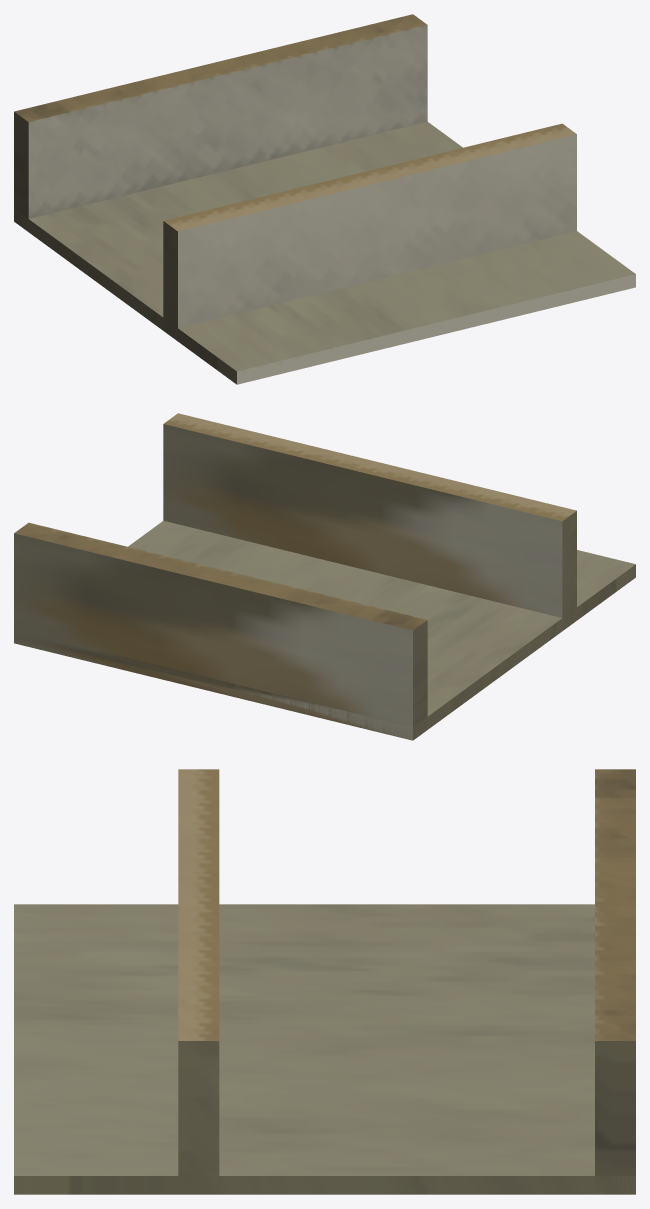
The model's file is pz_g016_shop_beige_magazine_shop_shelves.obj.
3 renders of one model, top to bottom at view 1: azimuth 30°, elevation 25°; view 2: azimuth 150°, elevation 25°; view 3: azimuth 270°, elevation 25°, orthographic. The views are drawn at different scales.
Visible parts, largest first — view 1: physical_component_0_y+, physical_component_1_z+, physical_component_2_z+, physical_component_1_y+, physical_component_2_y+, physical_component_0_z+, physical_component_0_x-, physical_component_1_x-, physical_component_2_x-; view 2: physical_component_1_z-, physical_component_2_z-, physical_component_0_y+, physical_component_2_y+, physical_component_1_y+, physical_component_0_z-, physical_component_0_x-, physical_component_2_x-, physical_component_1_x-; view 3: physical_component_0_y+, physical_component_0_x+, physical_component_2_y+, physical_component_1_y+, physical_component_2_x+, physical_component_1_x+.
Boxes of the visible parts, x1,y1,x2,y2 form: physical_component_0_y+: (29, 121, 635, 371); physical_component_1_z+: (28, 25, 427, 218); physical_component_2_z+: (178, 134, 576, 328); physical_component_1_y+: (14, 14, 427, 122); physical_component_2_y+: (164, 123, 576, 231); physical_component_0_z+: (237, 274, 635, 384); physical_component_0_x-: (14, 208, 236, 384); physical_component_1_x-: (14, 112, 28, 224); physical_component_2_x-: (163, 221, 177, 333); physical_component_1_z-: (14, 533, 412, 740); physical_component_2_z-: (163, 424, 562, 617); physical_component_0_y+: (128, 521, 635, 716); physical_component_2_y+: (164, 413, 576, 521); physical_component_1_y+: (14, 522, 426, 630); physical_component_0_z-: (14, 630, 412, 740); physical_component_0_x-: (413, 564, 635, 740); physical_component_2_x-: (562, 511, 576, 630); physical_component_1_x-: (413, 620, 427, 738); physical_component_0_y+: (14, 904, 594, 1175); physical_component_0_x+: (14, 1176, 635, 1194); physical_component_2_y+: (178, 769, 219, 1040); physical_component_1_y+: (595, 769, 635, 1040); physical_component_2_x+: (178, 1041, 219, 1194); physical_component_1_x+: (595, 1041, 635, 1194).
Bounding box in the file's own units: 1.1 × 0.29 × 1.07.
Materials: 1 (1 with a texture image).
